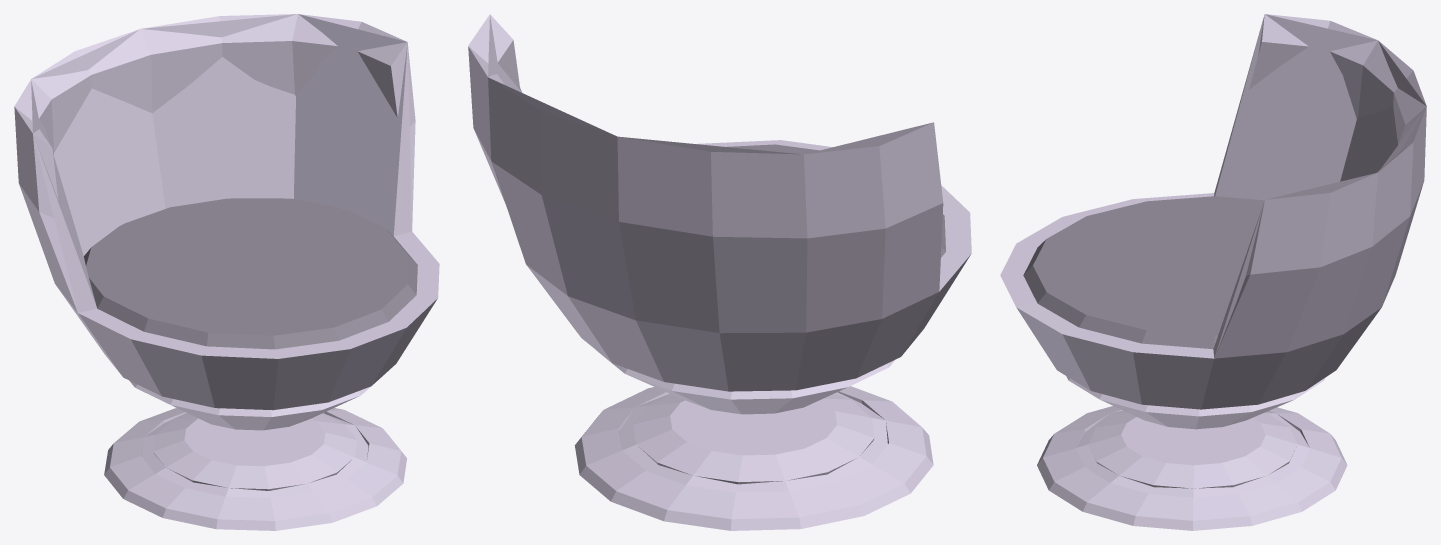
File: Sillas2.fbx
3 renders of one model, left to right at view 1: azimuth 30°, elevation 25°; view 2: azimuth 150°, elevation 25°; view 3: azimuth 270°, elevation 25°, orthographic. The views are drawn at different scales.
Parts seen in each view (by area): view 1: Cube.073, Cube.029; view 2: Cube.073, Cube.029; view 3: Cube.073, Cube.029.
Part boxes in pixels (x1,y1,x2,y2): Cube.073: [14, 14, 439, 530]; Cube.029: [31, 14, 437, 497]; Cube.073: [468, 14, 971, 530]; Cube.029: [488, 15, 969, 492]; Cube.073: [1000, 14, 1426, 530]; Cube.029: [1063, 14, 1426, 497].
Size of the model in its own units: 48.65 by 43.66 by 47.02.
